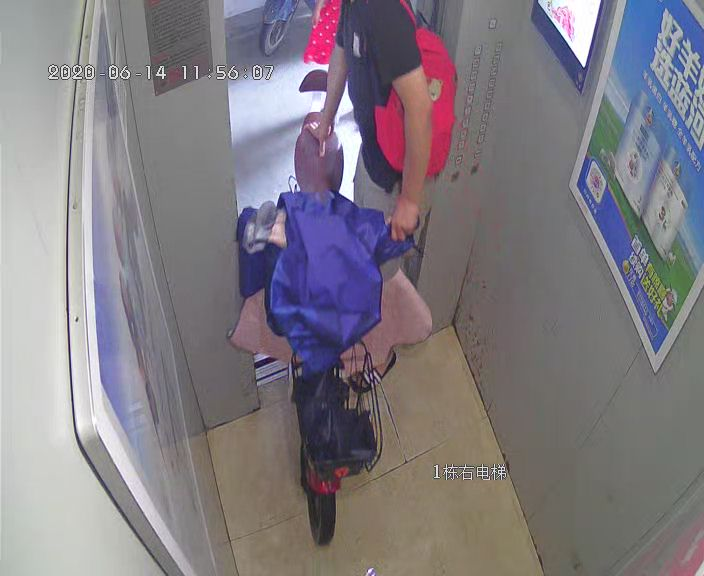Electric-bicycle: (244, 68, 418, 551)
